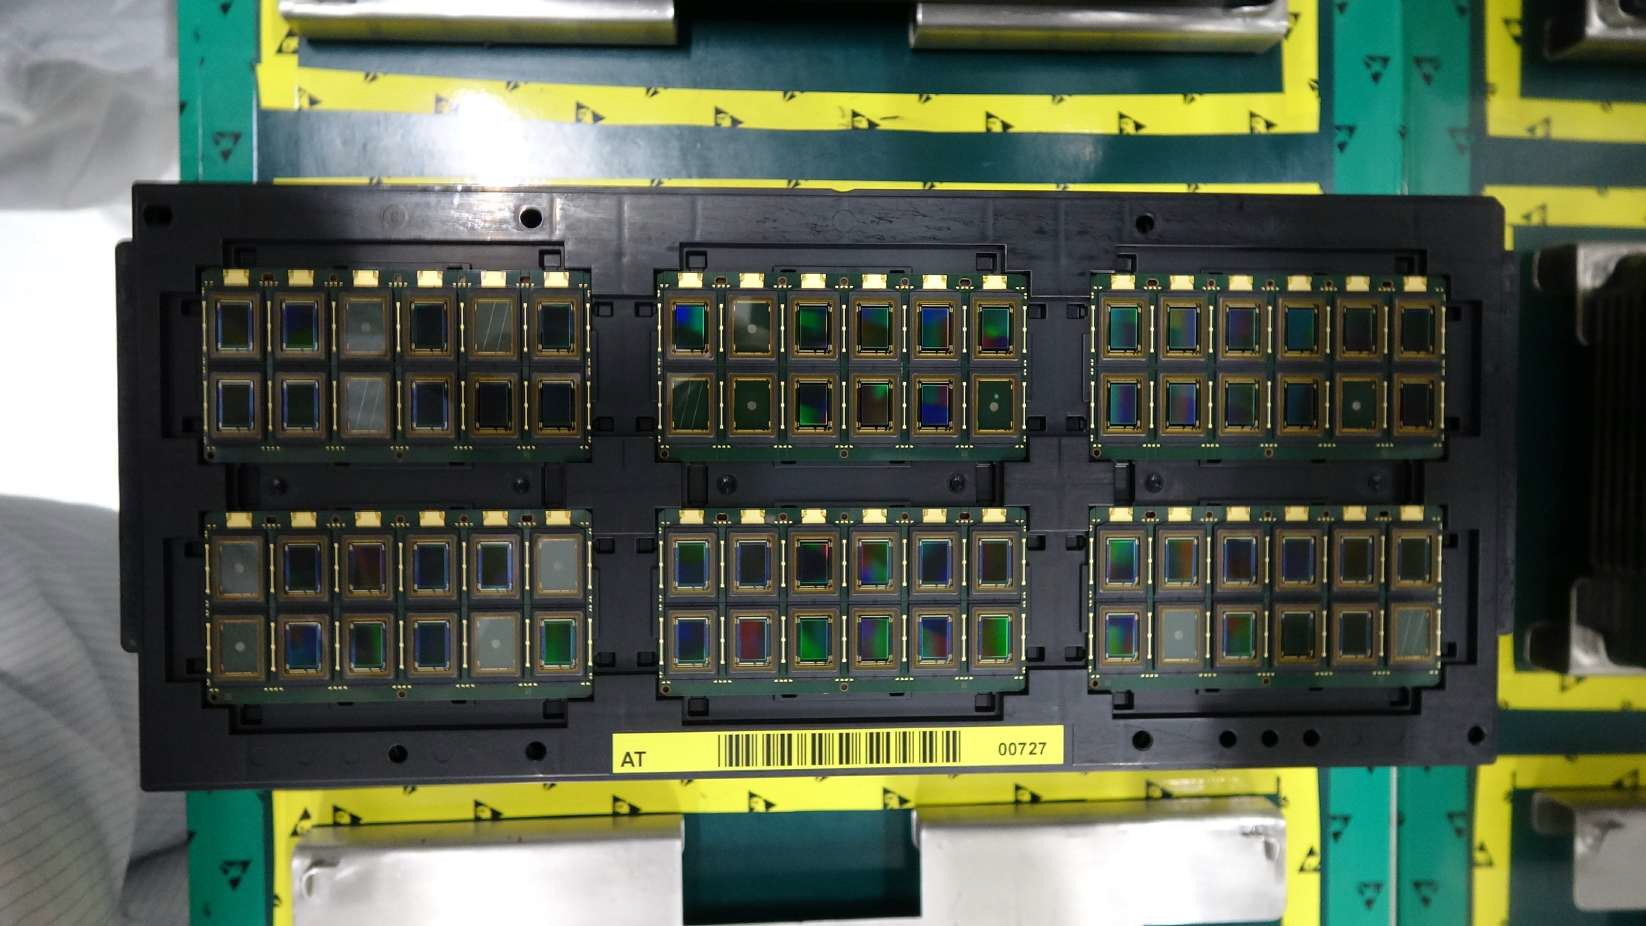Bad_mark_from_BMS_mold: (466, 289, 519, 358), (665, 370, 717, 439), (338, 373, 392, 439), (1389, 602, 1438, 665)
Bad_mark_from_Maker: (336, 289, 391, 360), (530, 531, 583, 600), (1332, 370, 1385, 438), (211, 536, 265, 602), (727, 292, 778, 360), (969, 371, 1020, 438), (727, 371, 776, 438), (213, 616, 265, 678), (1155, 603, 1205, 667), (470, 611, 521, 673)
